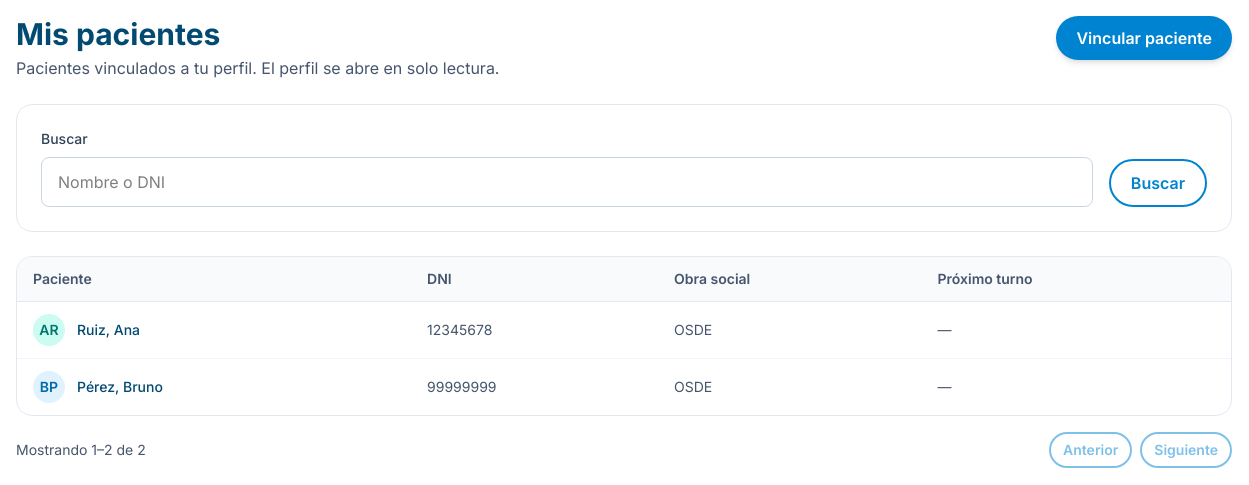
Test: DoctorPatientsPage › busca por nombre o DNI
The width and height of the screenshot is (1249, 485).
Expected: the link "Ruiz, Ana" is shown, [77,320,140,340]
Type "Bruno" into the field labelled "Buscar" at (567,182), box [41,157,1093,207]
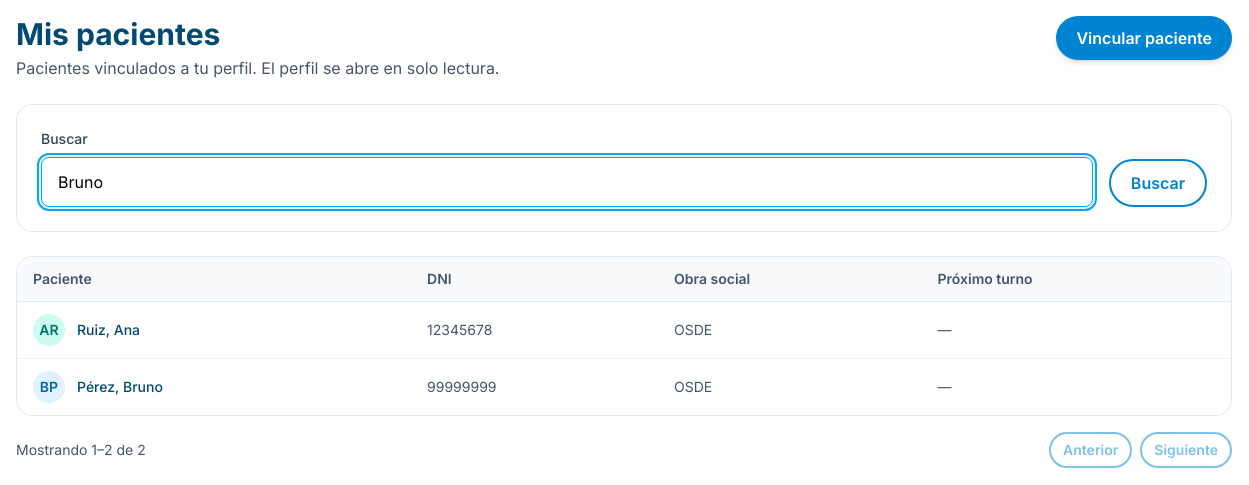
Click the button "Buscar" at (1158,183), box [1109,159,1207,207]
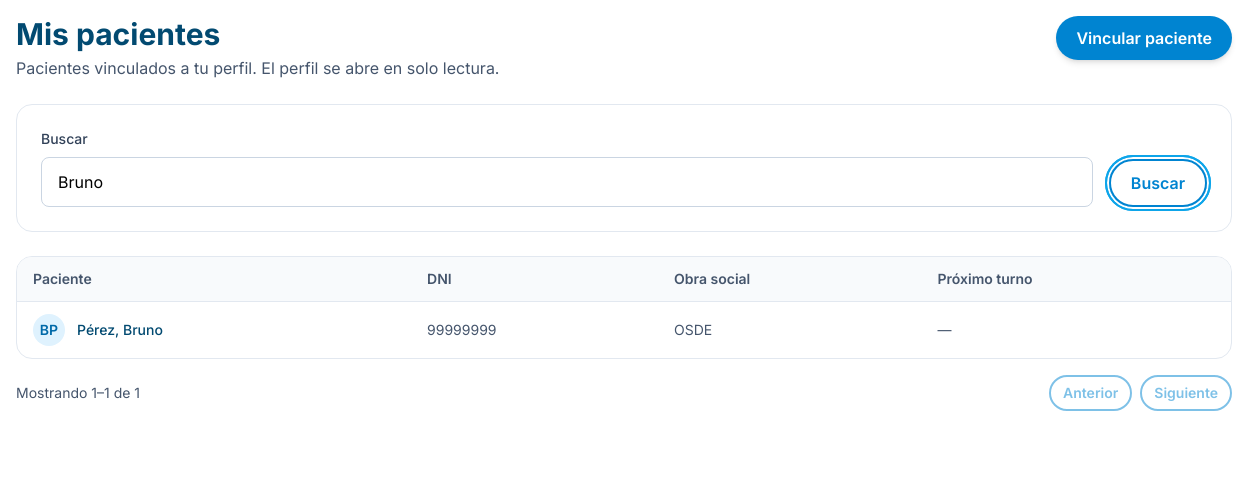
Expected: the link "Pérez, Bruno" is shown, [77,320,163,340]
Expected: the link "Ruiz, Ana" is gone
